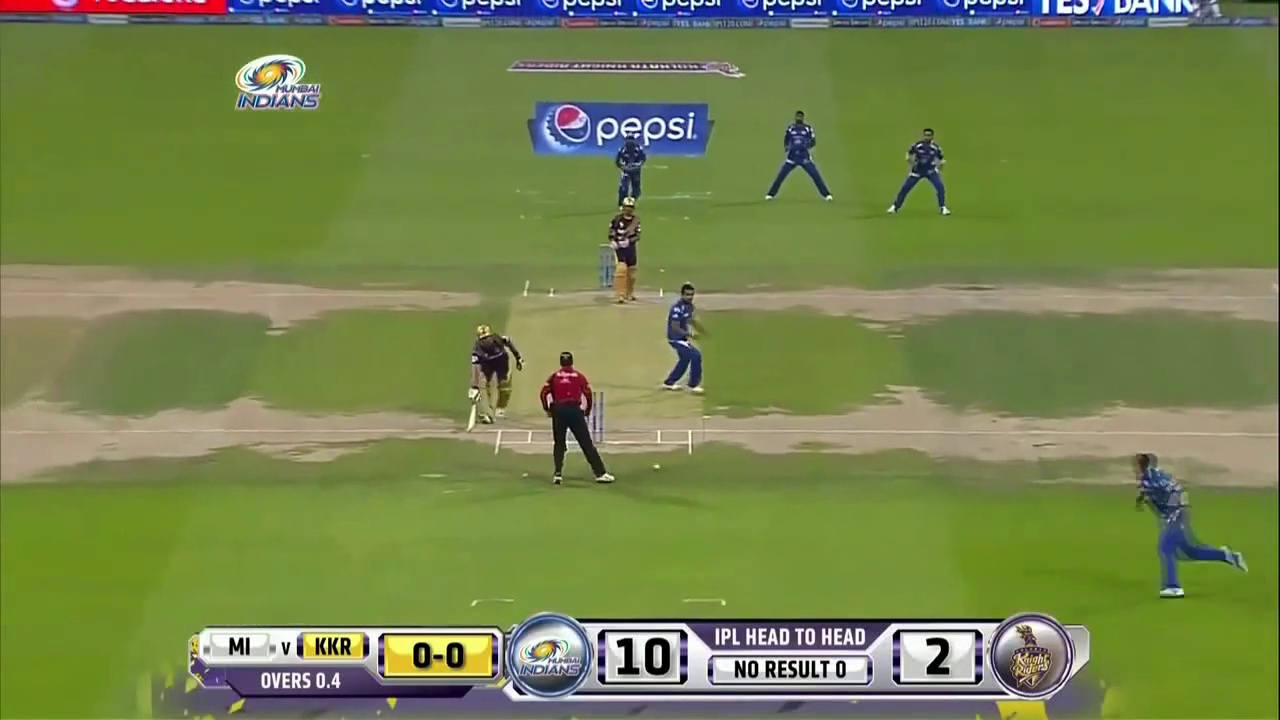bat: (466, 402, 477, 434)
stumps: (592, 390, 604, 443)
